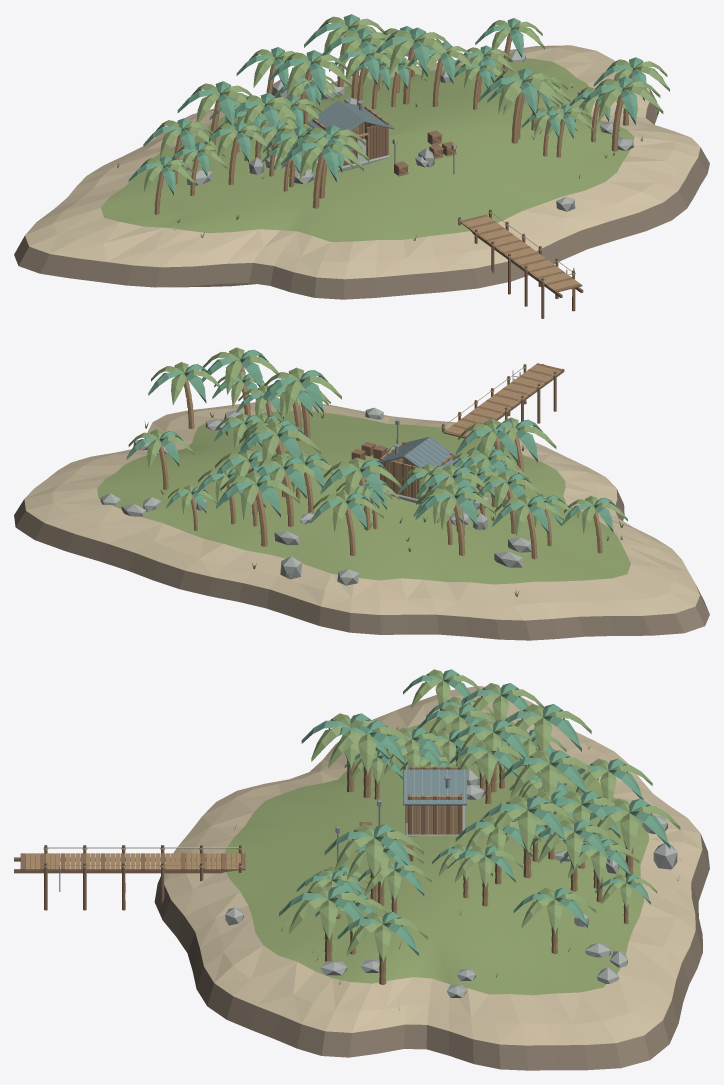
The model's file is Island_Tropical_Original.fbx.
The picture shows the model from 3 angles, top to bottom: view 1: azimuth 30°, elevation 25°; view 2: azimuth 150°, elevation 25°; view 3: azimuth 270°, elevation 25°; orthographic projection. The views are drawn at different scales.
Parts seen in each view (by area): view 1: Terrain_Tropical, VegetationAndRocks, FishingDock, HarbourCabin, HarbourProps; view 2: Terrain_Tropical, VegetationAndRocks, FishingDock, HarbourCabin, HarbourProps; view 3: Terrain_Tropical, VegetationAndRocks, FishingDock, HarbourCabin.
Part boxes in pixels (x1,y1,x2,y2): Terrain_Tropical: (14,45,709,299); VegetationAndRocks: (115,14,669,240); FishingDock: (457,209,583,318); HarbourCabin: (307,100,394,172); HarbourProps: (392,130,456,176); Terrain_Tropical: (14,401,709,640); VegetationAndRocks: (100,347,627,596); FishingDock: (441,363,564,438); HarbourCabin: (377,436,459,506); HarbourProps: (351,419,399,460); Terrain_Tropical: (154,686,709,1070); VegetationAndRocks: (225,669,680,1010); FishingDock: (14,845,245,910); HarbourCabin: (403,766,466,836).
Bounding box in the file's own units: 6308 × 1243 × 5008.
